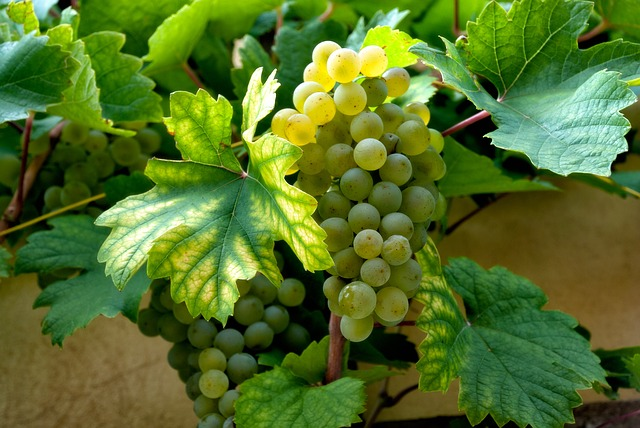Green grapes: (270, 34, 453, 341), (151, 233, 306, 428), (32, 115, 167, 214)
